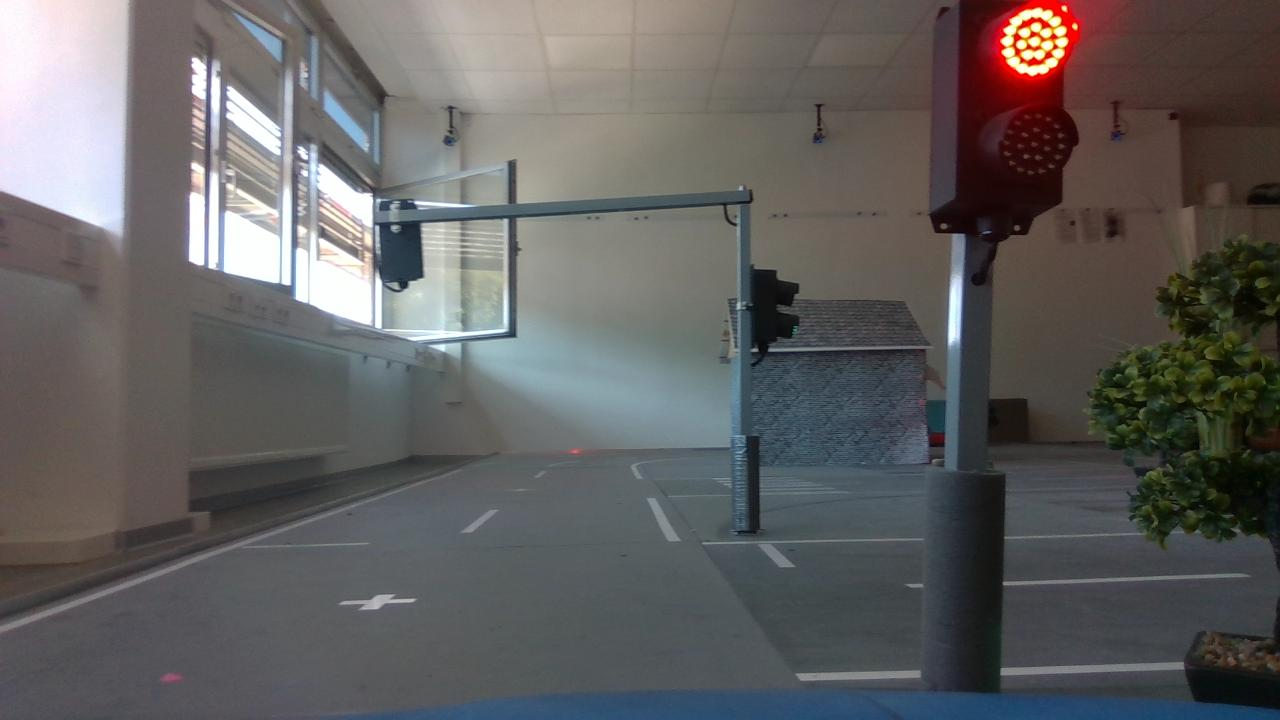traffic_light_red: (931, 2, 1089, 248)
